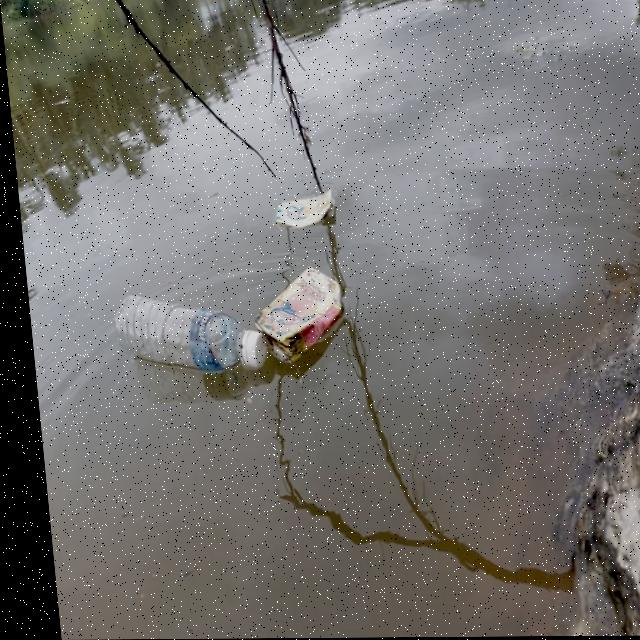paper: (254, 275, 370, 365), (264, 190, 349, 235)
waterbottle: (67, 263, 258, 401)
